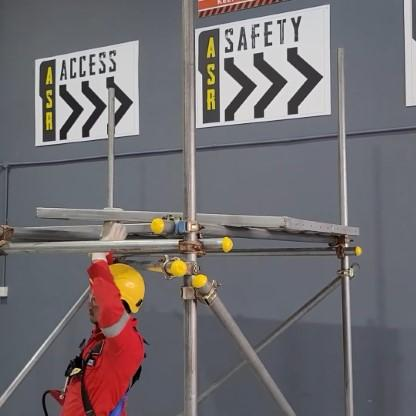helmet: (69, 256, 146, 340)
